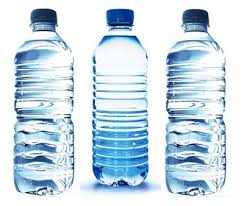Botella: (166, 10, 225, 194), (15, 9, 73, 192), (93, 9, 148, 184)
